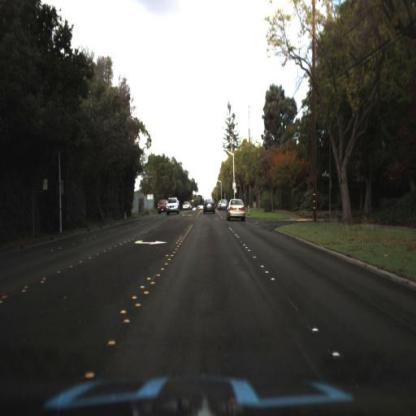car: (226, 194, 247, 221), (165, 193, 178, 214), (203, 195, 216, 216), (218, 196, 232, 215), (156, 198, 166, 214), (182, 200, 191, 216), (219, 196, 228, 212)
